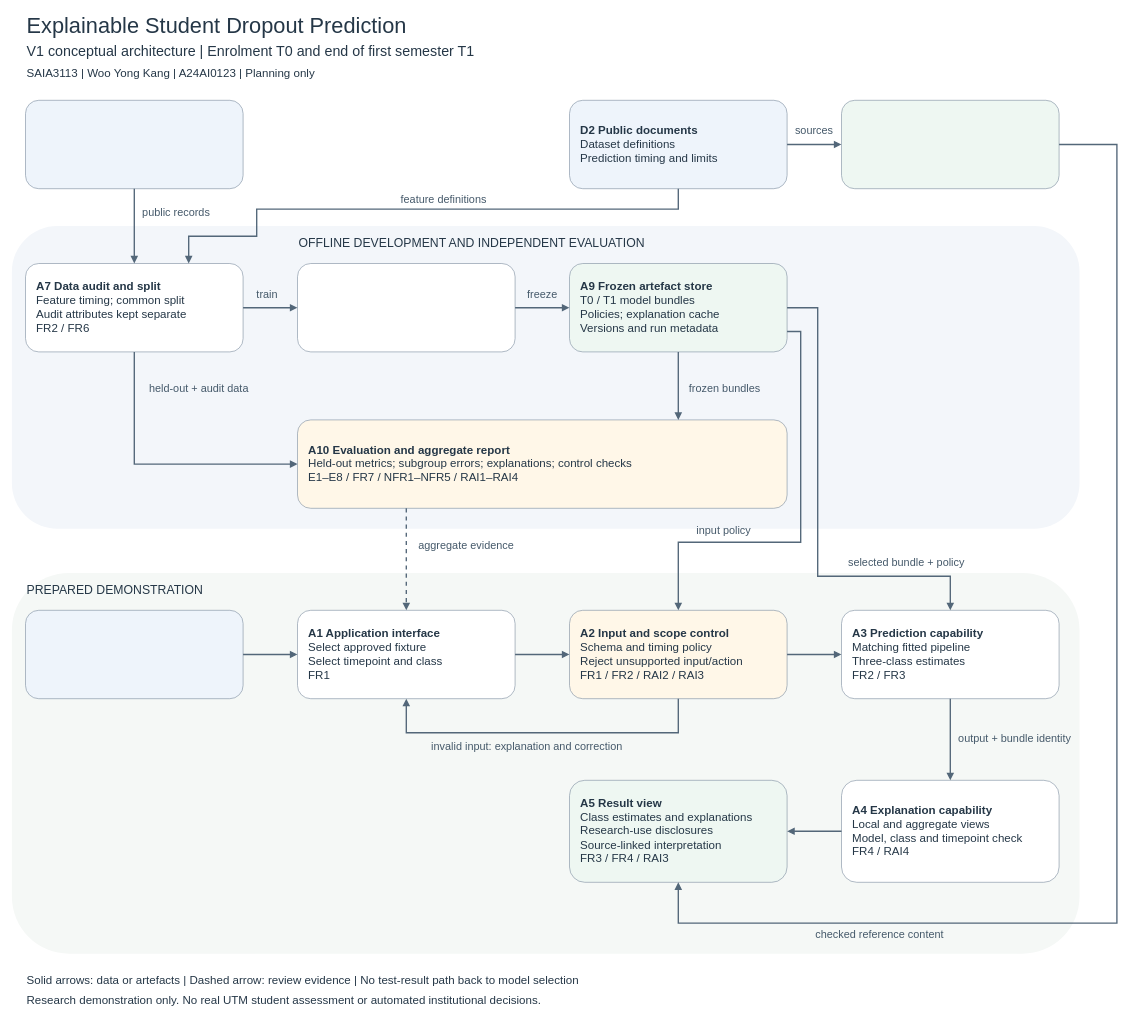
This 1134x1023 diagram has some shape labels left out. Each missing label, with the centre of its shape:
"A6 Cited reference guide Checked claims and locators FR5 / RAI4" belongs at [950,144].
"A8 Training and validation Training folds only Candidate comparison FR6 / NFR4" belongs at [406,307].
"D1 Public benchmark Labelled tabular records Public UCI release" belongs at [134,144].
"U1 User Advisor or evaluator Educational demonstration" belongs at [134,654].
